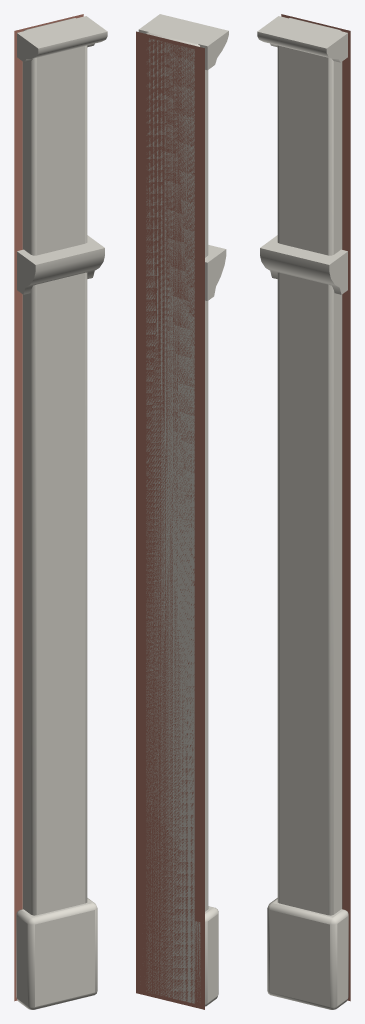
File: filler_pilaster_g_03.glb
3 views of the same model, side by side, from view 1: azimuth 30°, elevation 25°; view 2: azimuth 150°, elevation 25°; view 3: azimuth 330°, elevation 25° (orthographic).
Visible parts, largest first — view 1: filler_pilaster_g_03; view 2: filler_pilaster_g_03; view 3: filler_pilaster_g_03.
Part boxes in pixels (x1=…): filler_pilaster_g_03: x1=14, y1=14, x2=107, y2=1009; filler_pilaster_g_03: x1=136, y1=14, x2=228, y2=1009; filler_pilaster_g_03: x1=257, y1=14, x2=350, y2=1009.
Size of the model in its own units: 0.3 by 4 by 0.18.
